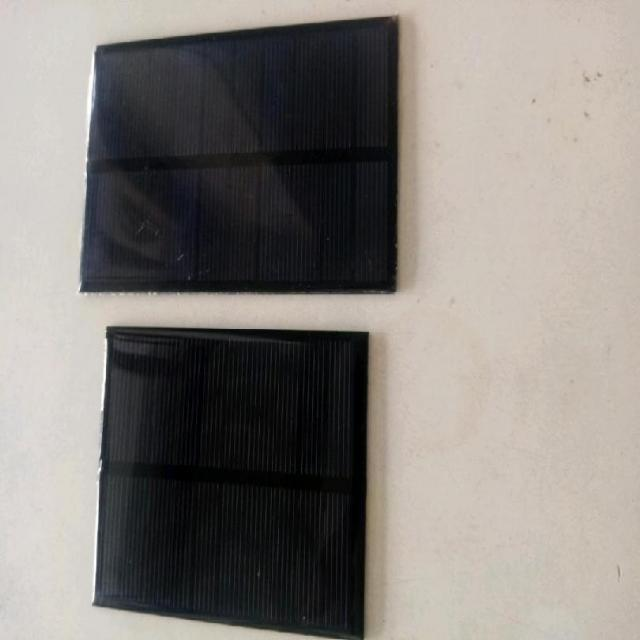no faulty: (86, 35, 395, 289), (110, 339, 366, 625)
